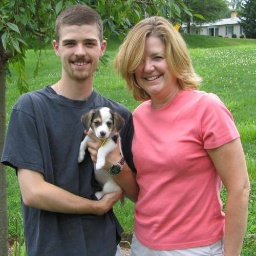dog: (71, 101, 138, 210)
